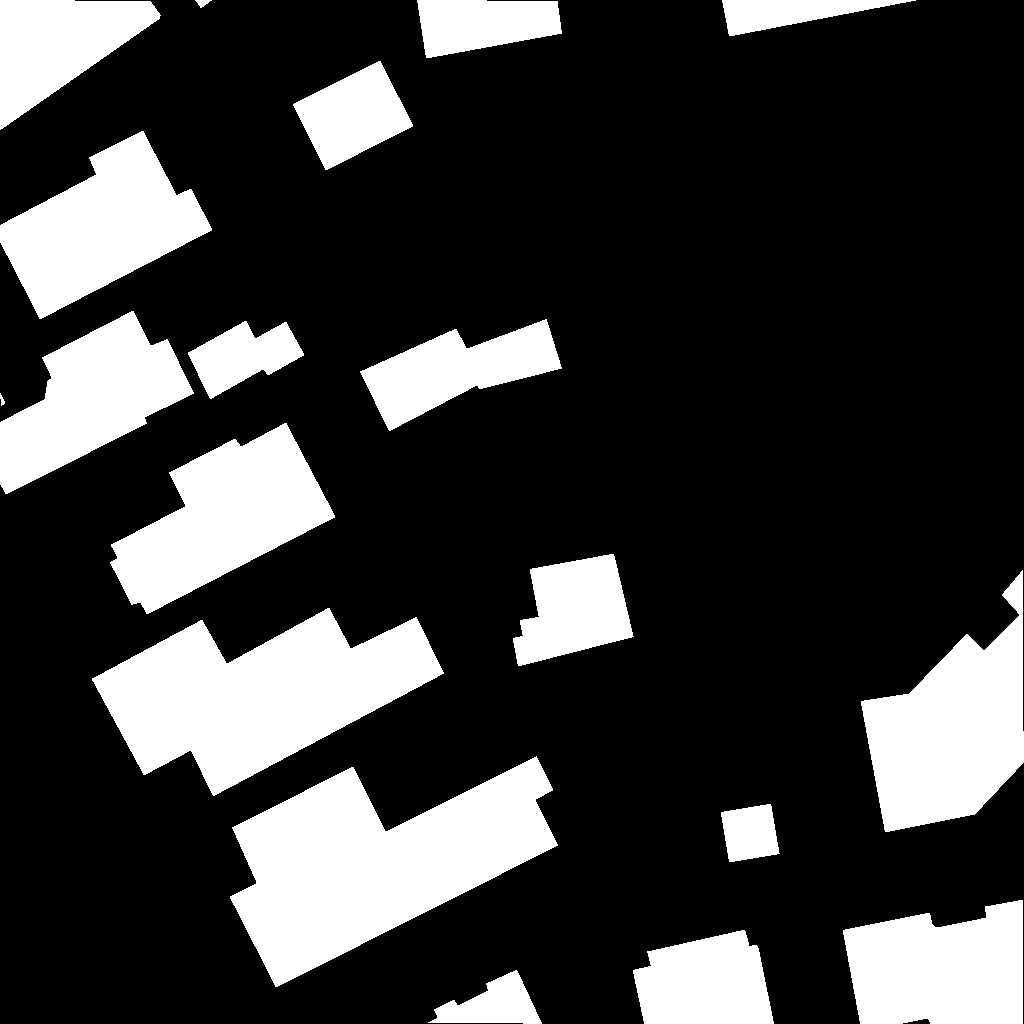building: (230, 756, 559, 988), (92, 608, 445, 797), (110, 423, 336, 615), (861, 570, 1024, 833), (0, 131, 213, 320), (0, 311, 195, 495), (360, 319, 563, 432), (843, 900, 1024, 1024), (0, 0, 162, 131), (513, 554, 634, 667), (633, 930, 775, 1024), (293, 61, 414, 171), (188, 321, 305, 400), (417, 0, 563, 59), (722, 0, 919, 37), (427, 970, 543, 1024), (721, 804, 780, 863), (195, 0, 213, 9), (0, 393, 6, 407)
